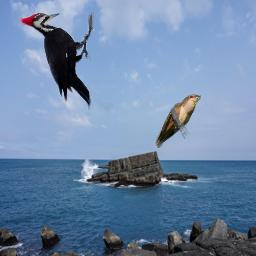Cuckoo: (154, 94, 201, 149)
Woodpecker: (19, 12, 94, 110)
